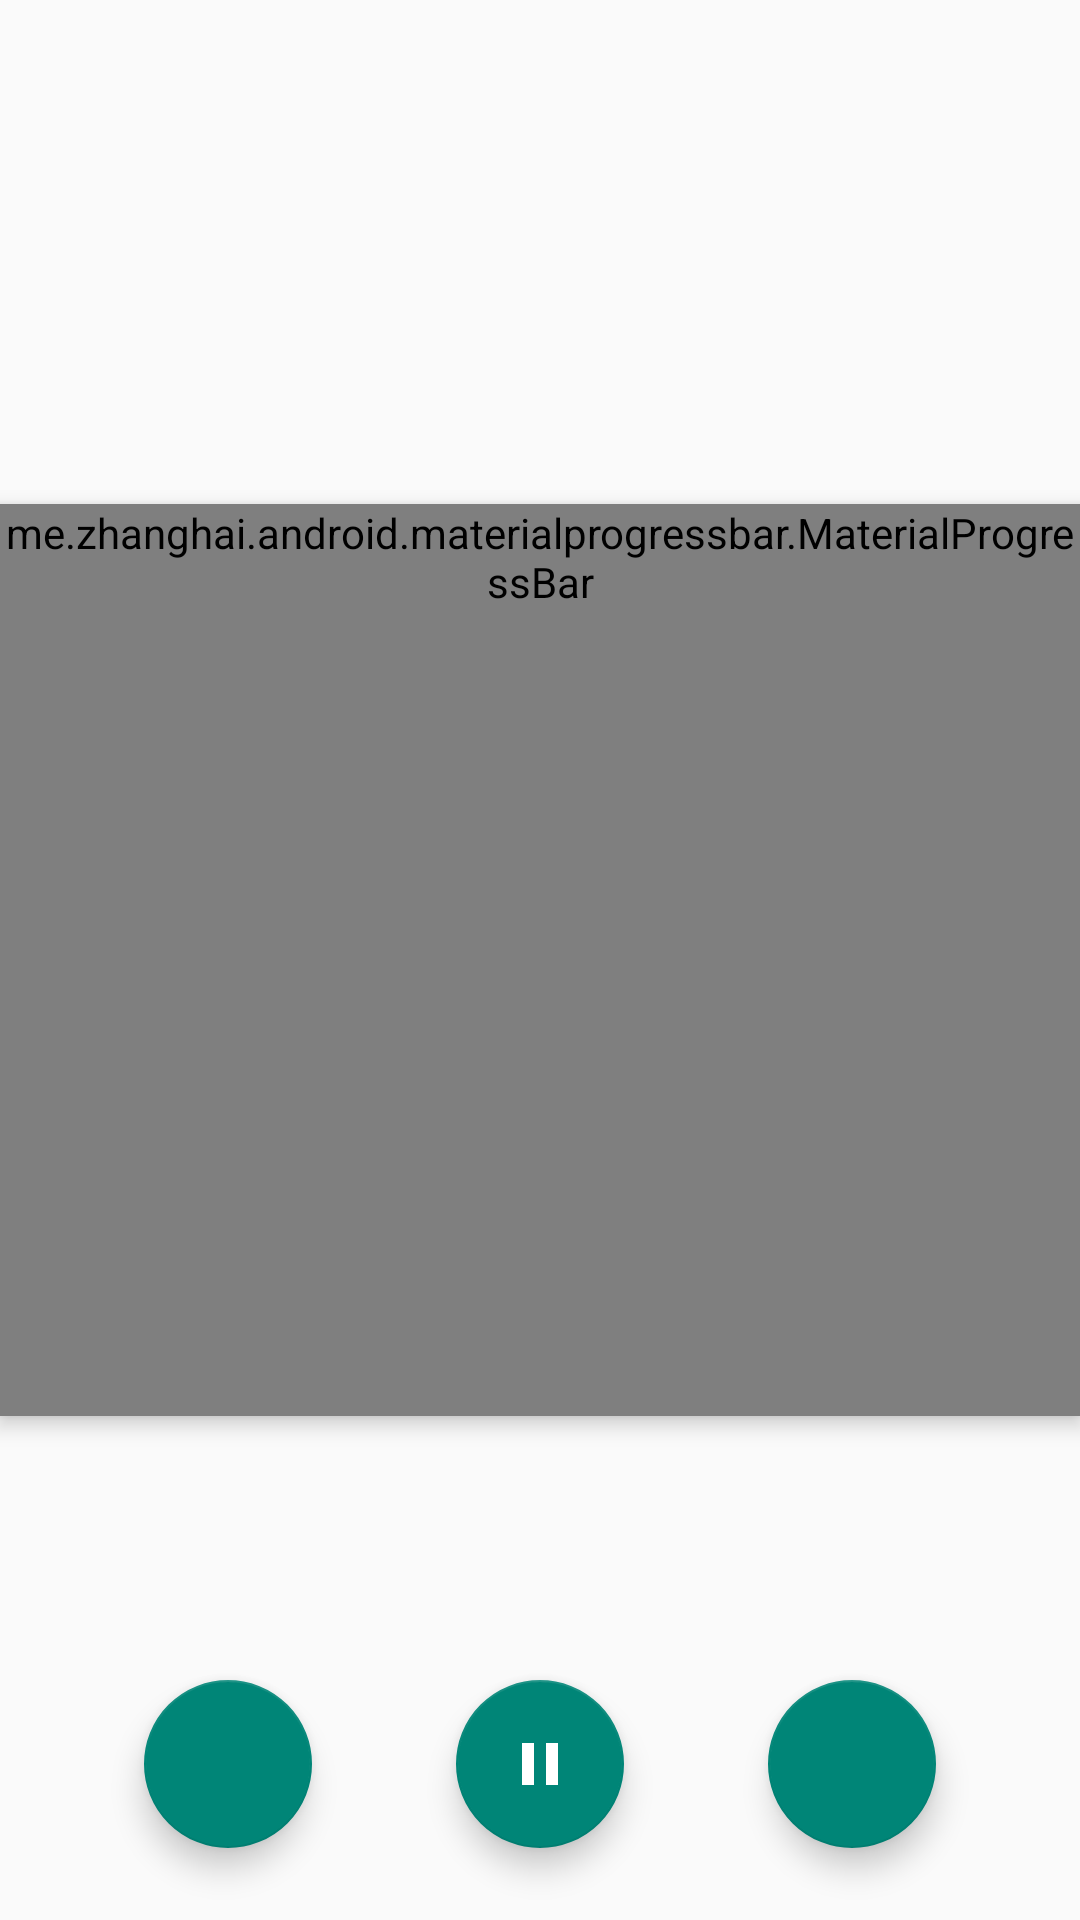

Icon bounding boxes for this 1080×1920 phone screenshot, format (x1, y1, x2, y2):
pause: (456, 1680, 624, 1848)
